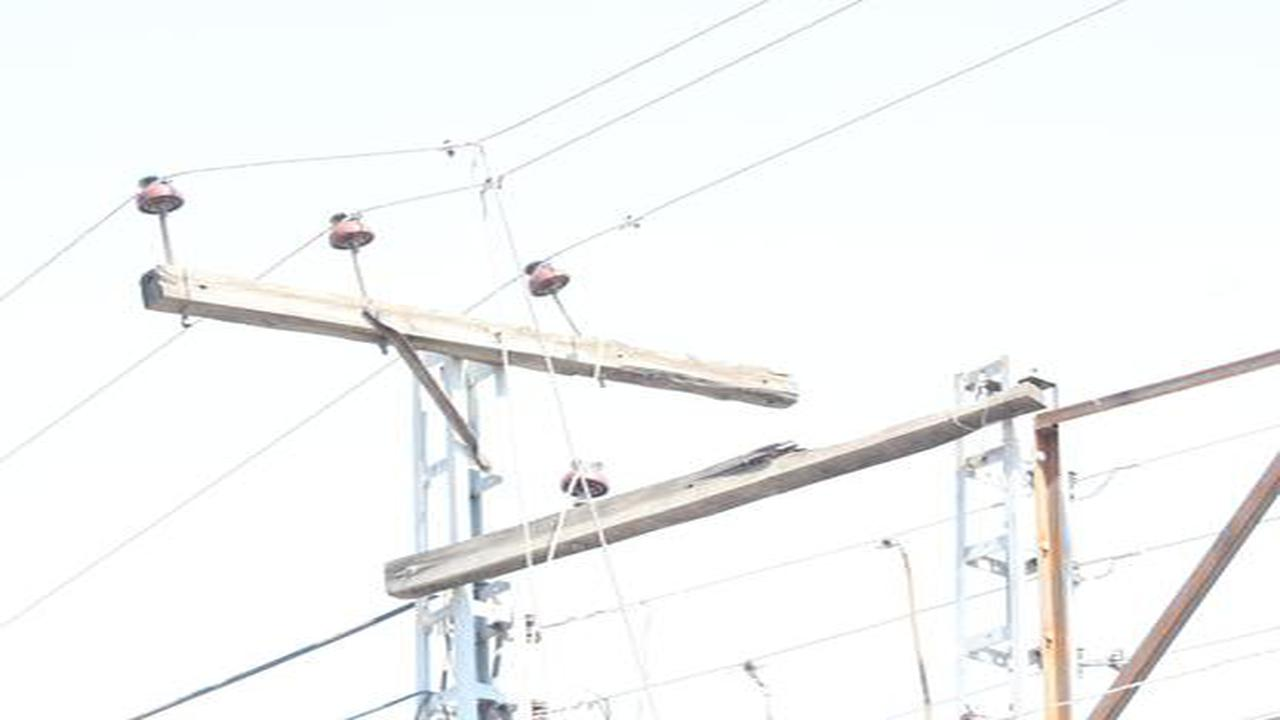insulator_pin: (555, 451, 614, 501), (136, 170, 189, 225), (325, 203, 376, 257), (520, 254, 576, 301)
